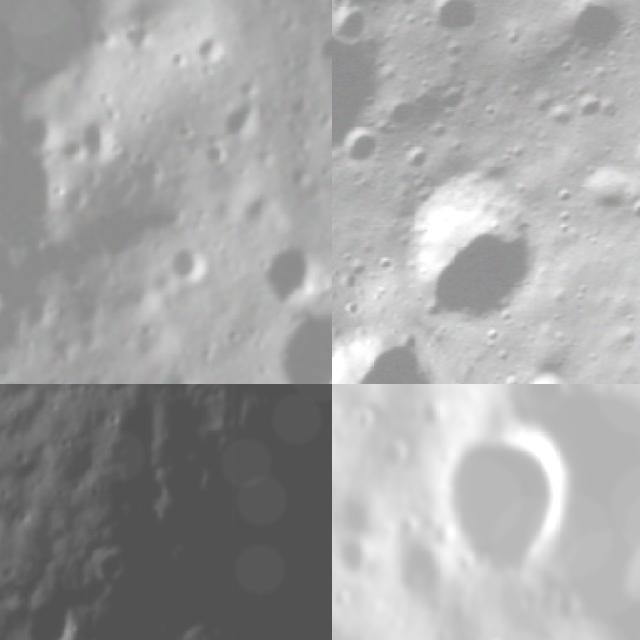crater: (368, 149, 568, 347), (431, 411, 567, 598), (332, 0, 422, 194), (543, 0, 640, 69), (566, 147, 640, 223), (414, 0, 497, 50), (260, 236, 320, 302), (332, 112, 391, 175), (367, 83, 425, 142), (288, 307, 332, 384), (20, 594, 80, 640), (531, 86, 583, 139), (169, 229, 216, 286), (332, 0, 382, 51), (428, 74, 476, 124), (85, 538, 126, 589), (569, 76, 614, 122), (83, 116, 121, 165), (391, 136, 432, 180), (226, 96, 260, 148), (375, 426, 411, 475), (517, 359, 585, 384), (197, 28, 226, 72), (617, 187, 640, 228), (332, 585, 359, 616), (0, 371, 39, 384), (470, 630, 513, 640)
